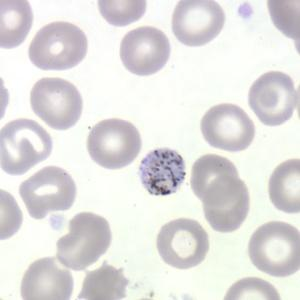Infected: (138, 147, 184, 196)
Uninfected: (57, 212, 111, 273), (27, 20, 88, 70), (19, 167, 76, 219), (0, 116, 52, 172), (250, 219, 300, 277), (247, 70, 297, 126), (30, 77, 82, 130), (87, 117, 140, 169), (199, 103, 254, 152), (119, 25, 171, 76), (156, 217, 207, 269), (203, 175, 249, 232), (171, 0, 226, 47), (189, 153, 238, 203), (21, 256, 74, 300), (269, 159, 300, 212), (0, 0, 32, 50), (96, 0, 148, 27)
